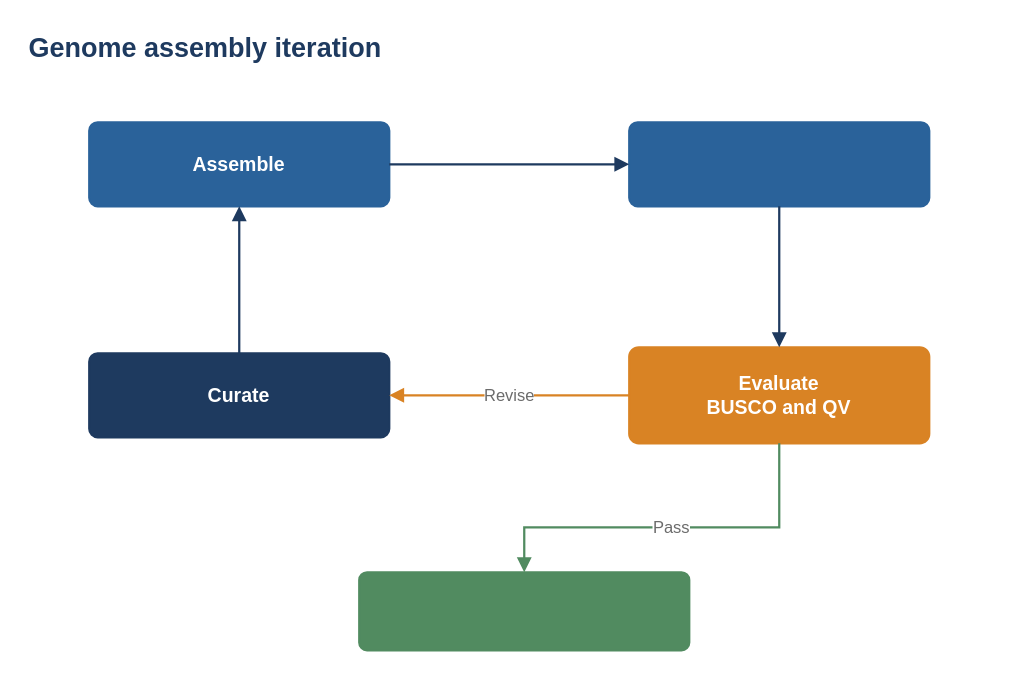
Image size: 1017x677. Some labels were removed from this diagram. The shapes that lost their labels are listed below. From the top down, each one's centre as x and y in pixels, then its label:
At pixel 778 163: "Polish".
At pixel 523 610: "Release assembly".
